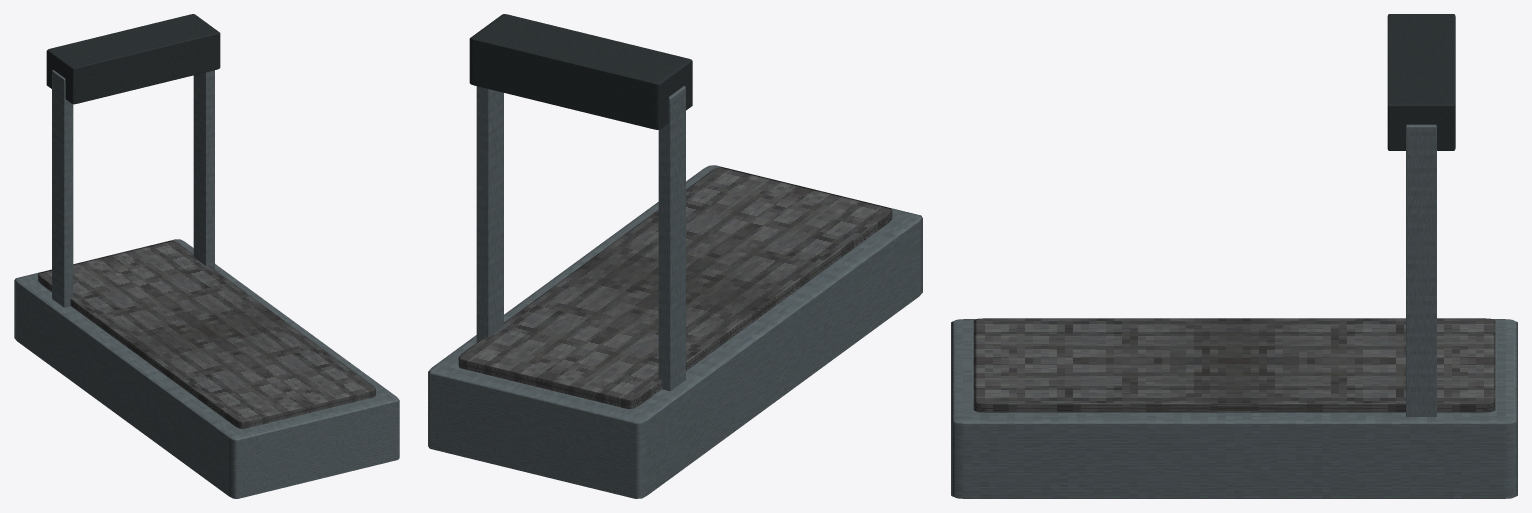
File: treadmill.glb
3 renders of one model, left to right at view 1: azimuth 30°, elevation 25°; view 2: azimuth 150°, elevation 25°; view 3: azimuth 270°, elevation 25°, orthographic. The views are drawn at different scales.
Visible parts, largest first — view 1: belt, base, console, upright (×2); view 2: base, belt, console, upright (×2); view 3: base, belt, upright, console.
Part boxes in pixels (x1,y1,x2,y2): belt: [38, 240, 375, 428]; base: [14, 239, 399, 498]; console: [46, 14, 220, 104]; upright (×2): [52, 70, 214, 307]; base: [428, 165, 922, 498]; belt: [458, 167, 892, 409]; console: [469, 14, 692, 129]; upright (×2): [476, 86, 685, 391]; base: [951, 319, 1517, 498]; belt: [973, 318, 1495, 412]; upright: [1406, 124, 1436, 416]; console: [1387, 14, 1455, 150].
Size of the model in its own units: 0.81 by 1.4 by 1.85.
3 materials, 3 textured.
